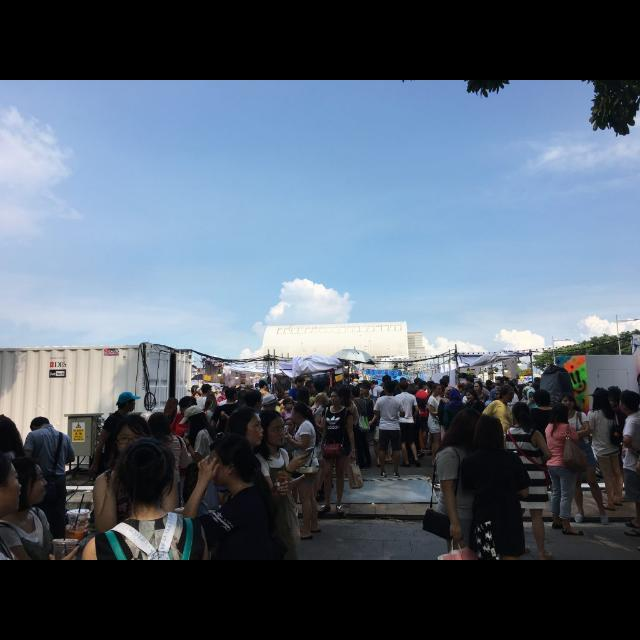head: (121, 438, 175, 508), (209, 434, 253, 488), (8, 458, 50, 507), (112, 414, 154, 458), (227, 408, 266, 448), (451, 408, 485, 447), (474, 416, 506, 452), (260, 409, 288, 449), (147, 412, 171, 438), (178, 396, 198, 420), (244, 391, 264, 413), (290, 401, 310, 423), (186, 408, 204, 430), (512, 402, 530, 424), (119, 393, 138, 413), (30, 417, 50, 435), (500, 384, 516, 404), (553, 404, 569, 424), (534, 390, 550, 408), (560, 393, 576, 411), (330, 390, 346, 406), (225, 387, 239, 403), (337, 386, 351, 402), (284, 418, 298, 432), (593, 392, 607, 406), (444, 386, 456, 400), (201, 384, 213, 396), (206, 396, 218, 408), (384, 382, 396, 394), (296, 375, 306, 389), (362, 382, 372, 396), (432, 384, 443, 396), (467, 390, 478, 402), (351, 387, 362, 398), (284, 399, 294, 411), (399, 381, 409, 393), (474, 381, 484, 393), (419, 381, 429, 392), (450, 390, 460, 400)
person: (556, 388, 612, 526), (137, 410, 190, 554), (88, 391, 144, 515), (315, 388, 367, 516), (543, 402, 591, 538), (177, 402, 225, 530), (282, 400, 324, 542), (584, 384, 624, 514), (228, 390, 270, 504), (168, 396, 208, 514), (478, 384, 520, 494), (371, 382, 407, 480), (528, 386, 560, 494), (210, 386, 248, 474), (275, 417, 303, 523), (329, 384, 361, 476), (351, 380, 383, 470), (392, 379, 424, 469), (342, 384, 372, 472), (442, 388, 472, 476), (437, 384, 465, 472), (460, 388, 490, 462), (423, 382, 445, 468), (466, 380, 492, 446), (278, 397, 300, 468), (413, 380, 435, 450), (286, 374, 308, 442), (195, 384, 217, 444), (202, 394, 224, 454)
